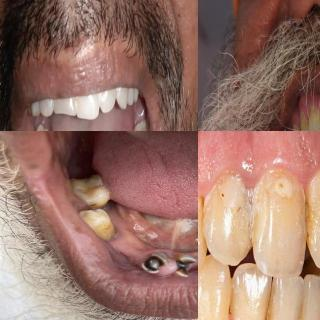Gum Swelling: (198, 158, 235, 195)
cavities: (77, 175, 95, 189)
maligned: (302, 163, 320, 273), (270, 276, 304, 320), (302, 277, 320, 320)
plaque: (255, 169, 302, 263), (202, 179, 254, 260), (302, 172, 320, 258), (230, 286, 266, 320), (198, 293, 226, 320)
stains: (296, 109, 312, 131), (131, 117, 149, 131)
